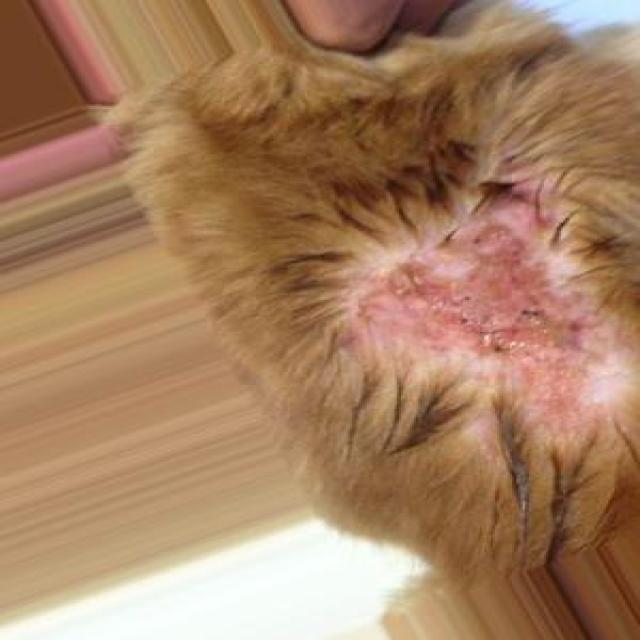di ung bo chet: (323, 190, 640, 507)
